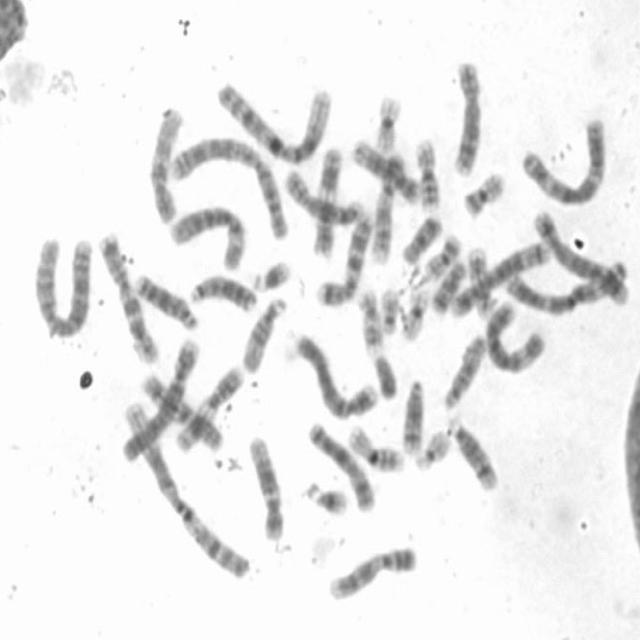A1: (118, 387, 253, 583), (214, 74, 336, 166)
A2: (164, 130, 292, 240), (28, 229, 94, 340)
A3: (516, 110, 609, 208), (500, 254, 630, 316)
B4: (117, 329, 203, 465), (288, 327, 380, 421)
B5: (528, 202, 632, 307), (446, 232, 554, 321)
C10: (137, 366, 226, 454), (144, 99, 185, 225)
C11: (170, 358, 248, 455), (308, 139, 345, 259)
C12: (348, 132, 423, 204), (244, 427, 288, 542)
C6: (165, 198, 248, 272), (480, 293, 549, 375)
C7: (94, 225, 163, 365), (314, 205, 376, 308)
C8: (280, 164, 366, 228), (448, 52, 485, 179)
C9: (324, 537, 422, 603), (367, 146, 406, 265)
D13: (130, 266, 201, 332), (184, 266, 260, 314)
D14: (443, 410, 501, 494), (398, 372, 428, 456)
D15: (236, 289, 288, 374), (438, 328, 489, 411)
E16: (344, 418, 407, 474), (411, 132, 444, 213)
E17: (464, 240, 498, 318), (353, 283, 387, 352)
E18: (426, 254, 469, 316), (398, 209, 444, 265)
F19: (370, 87, 404, 156), (397, 281, 432, 342)
F20: (458, 165, 507, 220), (419, 227, 464, 282)
G21: (299, 474, 352, 519), (248, 253, 294, 293)
G22: (409, 422, 452, 472), (376, 281, 402, 336)
X: (304, 414, 379, 514)
Y: (370, 348, 400, 400)
